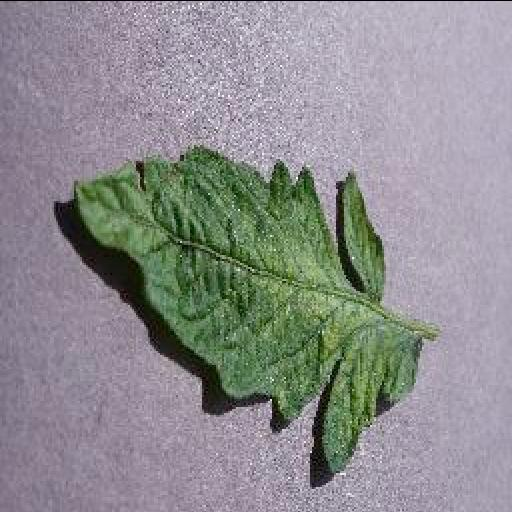disease_tomato: (74, 145, 422, 479)
